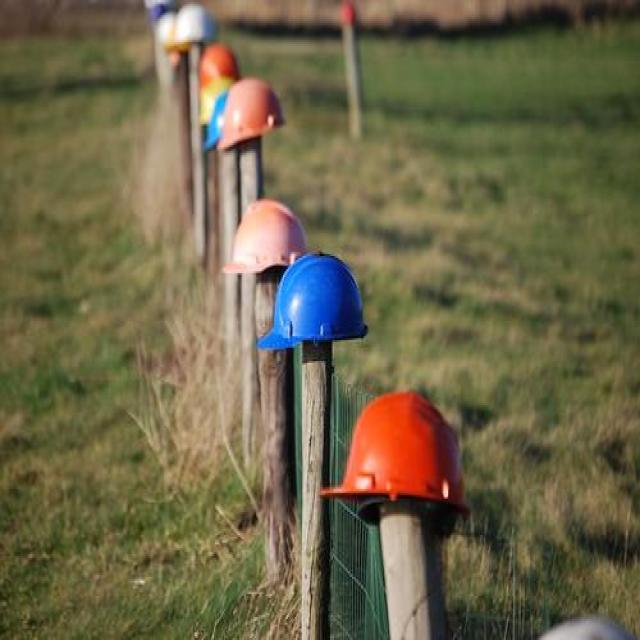Safety-Helmet: (330, 372, 472, 516), (252, 246, 374, 363), (217, 189, 315, 283), (213, 77, 291, 152), (167, 1, 217, 50)
